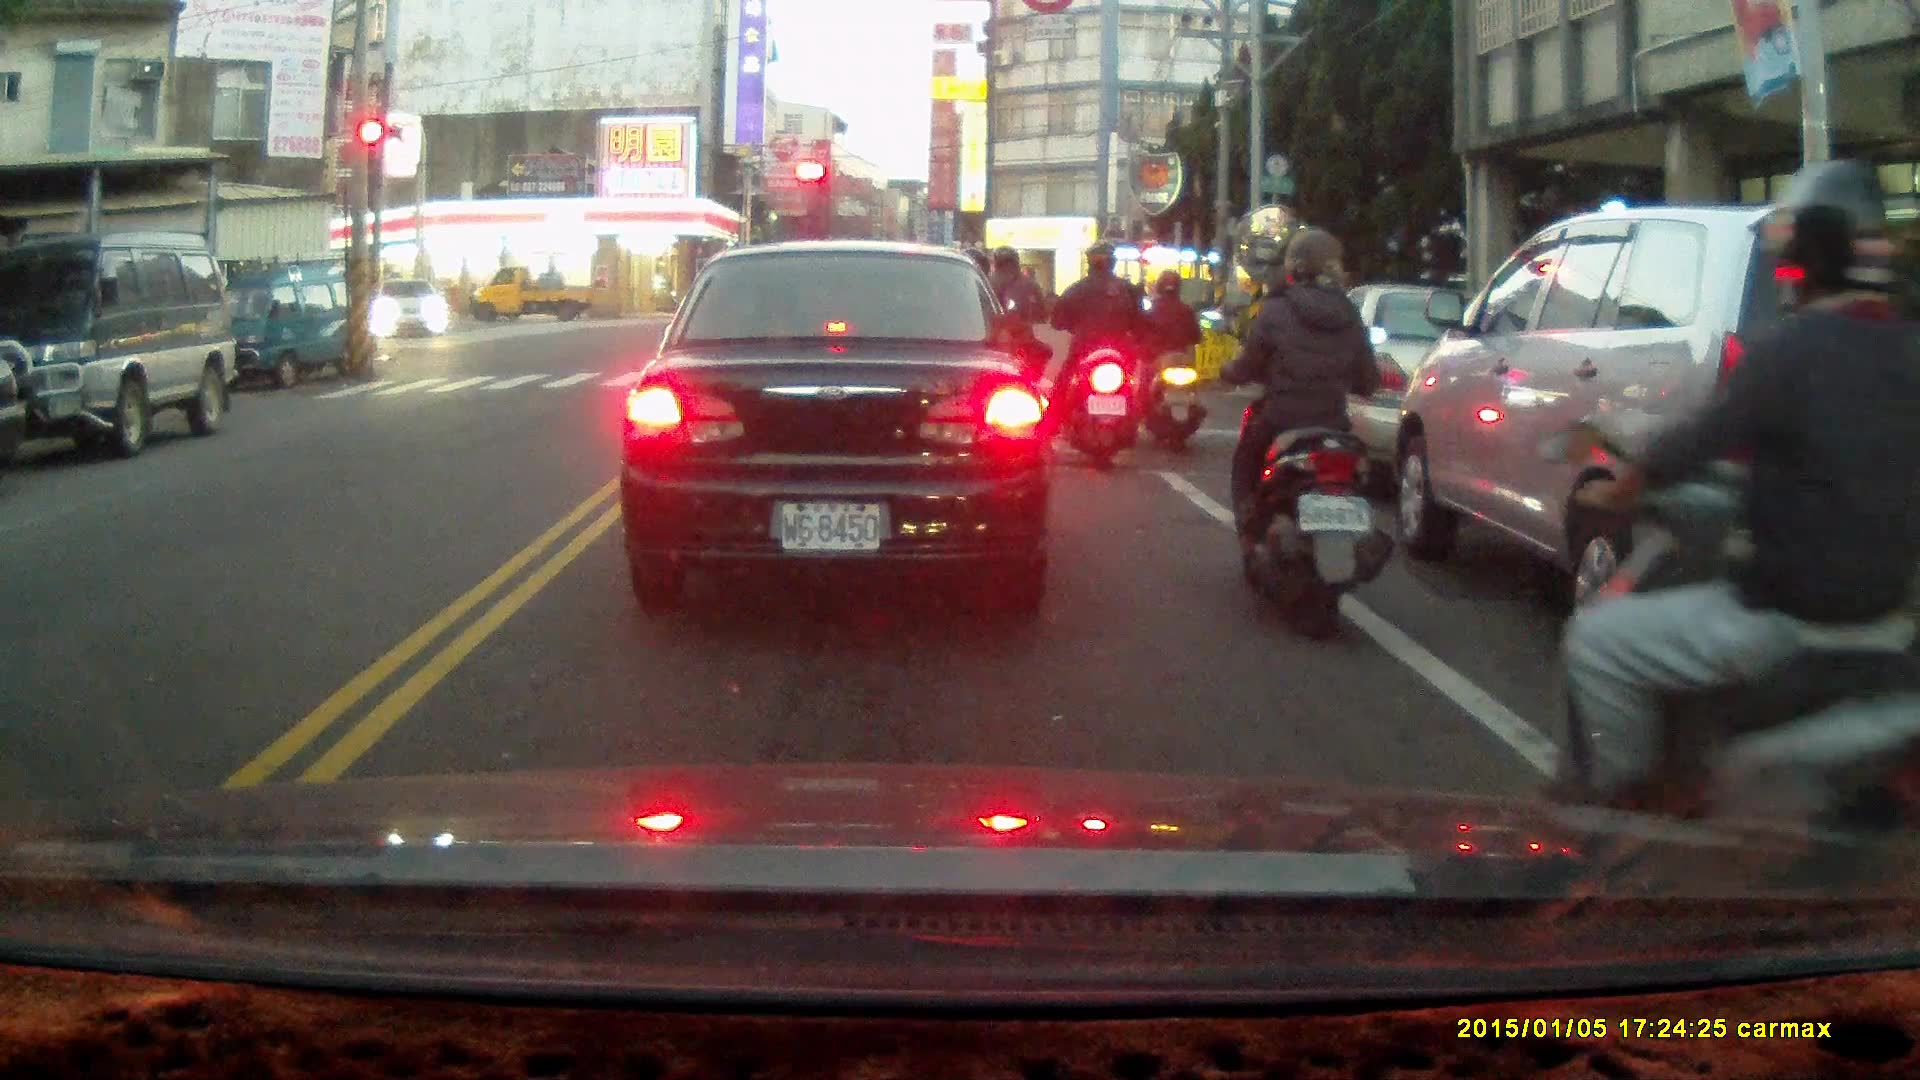rider: (1543, 153, 1920, 876), (1198, 223, 1394, 647), (1048, 243, 1141, 469), (962, 244, 1050, 446), (1134, 269, 1204, 450)
vehicle: (1381, 195, 1920, 685), (617, 243, 1061, 606), (1264, 282, 1568, 493), (1, 234, 239, 458), (194, 255, 381, 394), (465, 265, 599, 327), (372, 277, 451, 343)
